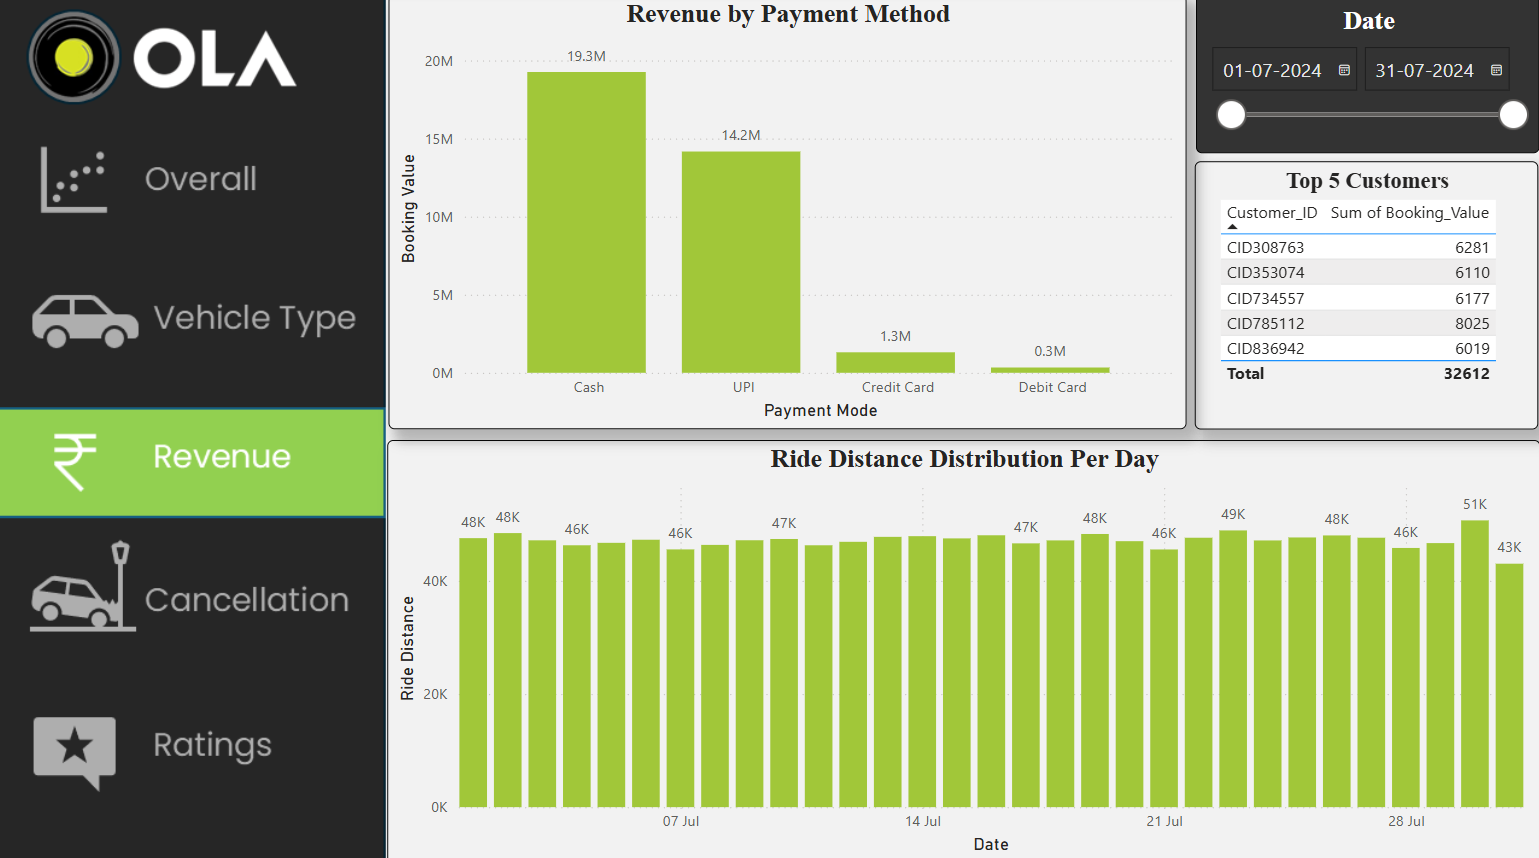

The dashboard page shown, as its layout file describes it:
{"tool":"powerbi","page":{"name":"Revenue","canvas":[1280,720],"ordinal":2},"visuals":[{"type":"actionButton","box":[0,223.4,323.3,90.7],"z":0},{"type":"actionButton","box":[0,445.7,323.3,90.7],"z":1000},{"type":"actionButton","box":[0,579.6,323.3,90.7],"z":2000},{"type":"actionButton","box":[0,106.6,323.3,90.7],"z":3000},{"type":"columnChart","title":"Revenue by Payment Method","fields":{"Category":["July.Payment_Method"],"Y":["Sum(July.Booking_Value)"]},"box":[325,0,661.2,360],"z":4000},{"type":"columnChart","title":" Ride Distance Distribution Per Day","fields":{"Y":["Sum(July.Ride_Distance)"],"Category":["July.Date"]},"box":[324.4,368.6,955.8,351.2],"z":5000},{"type":"slicer","title":"Date","fields":{"Values":["July.Date"]},"box":[995,0,285,131.2],"z":6000},{"type":"tableEx","title":"Top 5 Customers ","fields":{"Values":["July.Customer_ID","Sum(July.Booking_Value)"]},"box":[994,137.5,285,222.5],"z":7000}]}

Visuals, with their boxes on the page's 1280x720 design canvas (x1, y1, x2, y2). These are canvas units, not pixel positions in the 1539x858 screenshot, which may show the page scaled, cropped or inside an application window:
actionButton: x1=0 y1=223 x2=323 y2=314
actionButton: x1=0 y1=446 x2=323 y2=536
actionButton: x1=0 y1=580 x2=323 y2=670
actionButton: x1=0 y1=107 x2=323 y2=197
"Revenue by Payment Method" columnChart: x1=325 y1=0 x2=986 y2=360
" Ride Distance Distribution Per Day" columnChart: x1=324 y1=369 x2=1280 y2=720
"Date" slicer: x1=995 y1=0 x2=1280 y2=131
"Top 5 Customers " tableEx: x1=994 y1=138 x2=1279 y2=360
